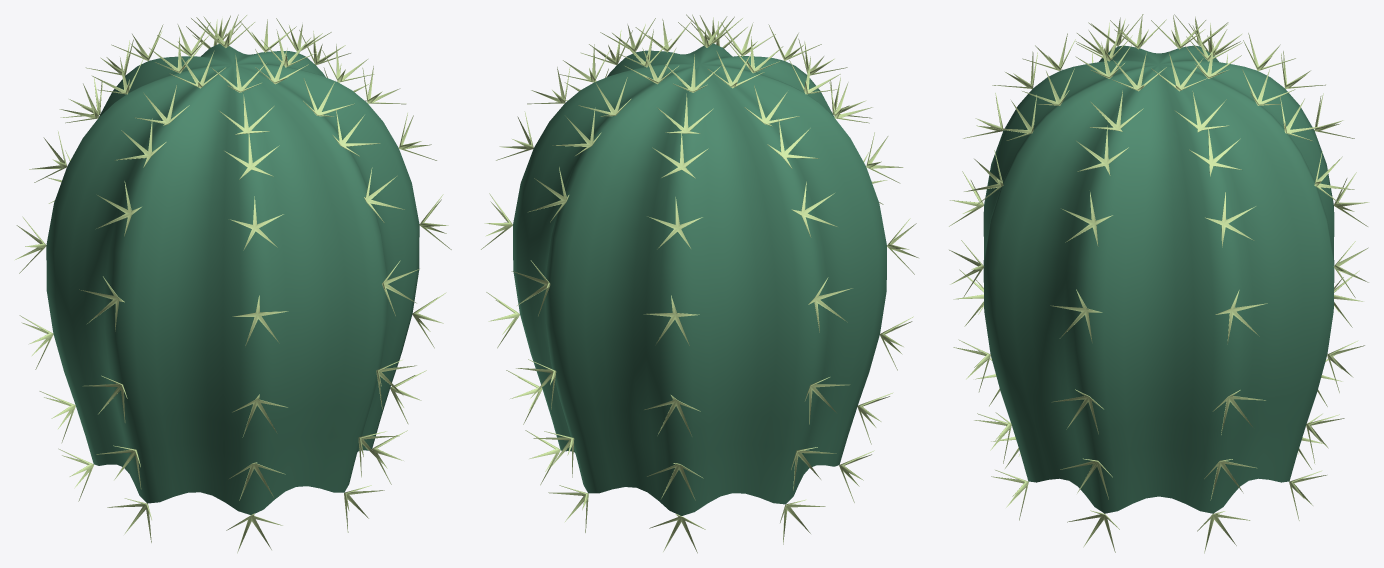
The model's file is cactus.glb.
3 renders of one model, left to right at view 1: azimuth 30°, elevation 25°; view 2: azimuth 150°, elevation 25°; view 3: azimuth 270°, elevation 25°, orthographic.
Parts seen in each view (by area): view 1: Sphere.002; view 2: Sphere.002; view 3: Sphere.002.
Boxes of the visible parts, x1,y1,x2,y2 form: Sphere.002: [14, 14, 451, 553]; Sphere.002: [481, 14, 918, 553]; Sphere.002: [949, 14, 1369, 553].
Size of the model in its own units: 9.84 by 11.56 by 9.84.
